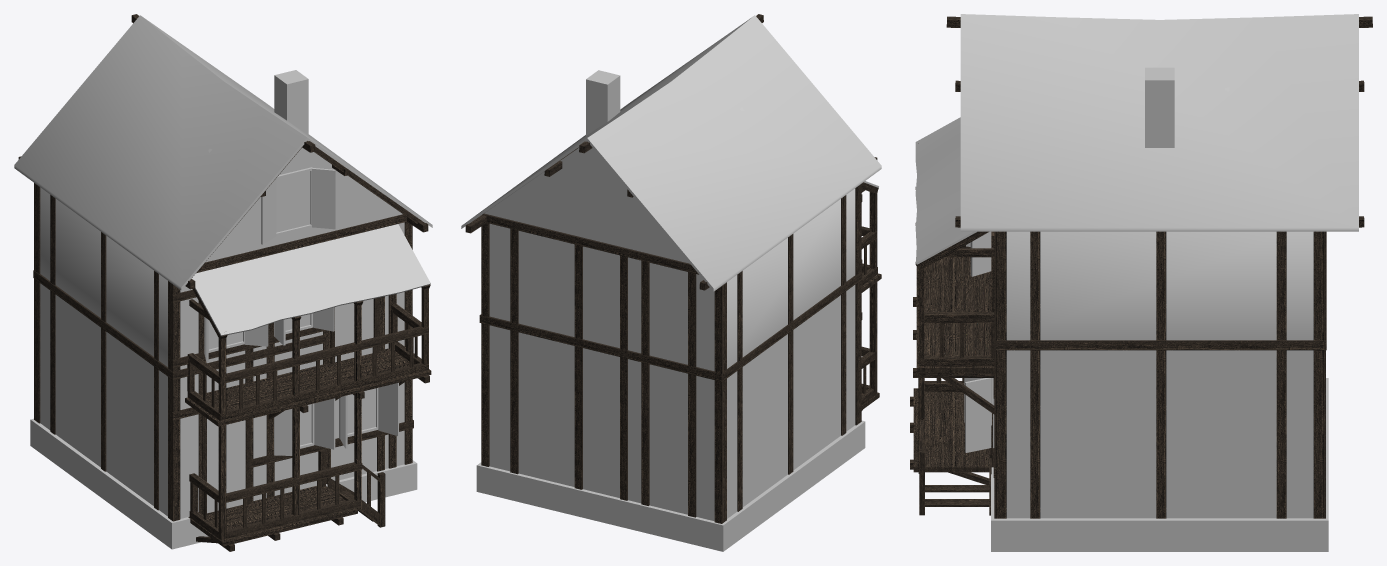
File: house3.fbx
3 renders of one model, left to right at view 1: azimuth 30°, elevation 25°; view 2: azimuth 150°, elevation 25°; view 3: azimuth 270°, elevation 25°, orthographic. The views are drawn at different scales.
Parts seen in each view (by area): view 1: Mesh Object; view 2: Mesh Object; view 3: Mesh Object.
Part boxes in pixels (bbox=[...]): Mesh Object: bbox=[14, 14, 432, 551]; Mesh Object: bbox=[461, 14, 881, 551]; Mesh Object: bbox=[910, 14, 1372, 551].
Bounding box in the file's own units: 8.2 × 12.21 × 10.97.
